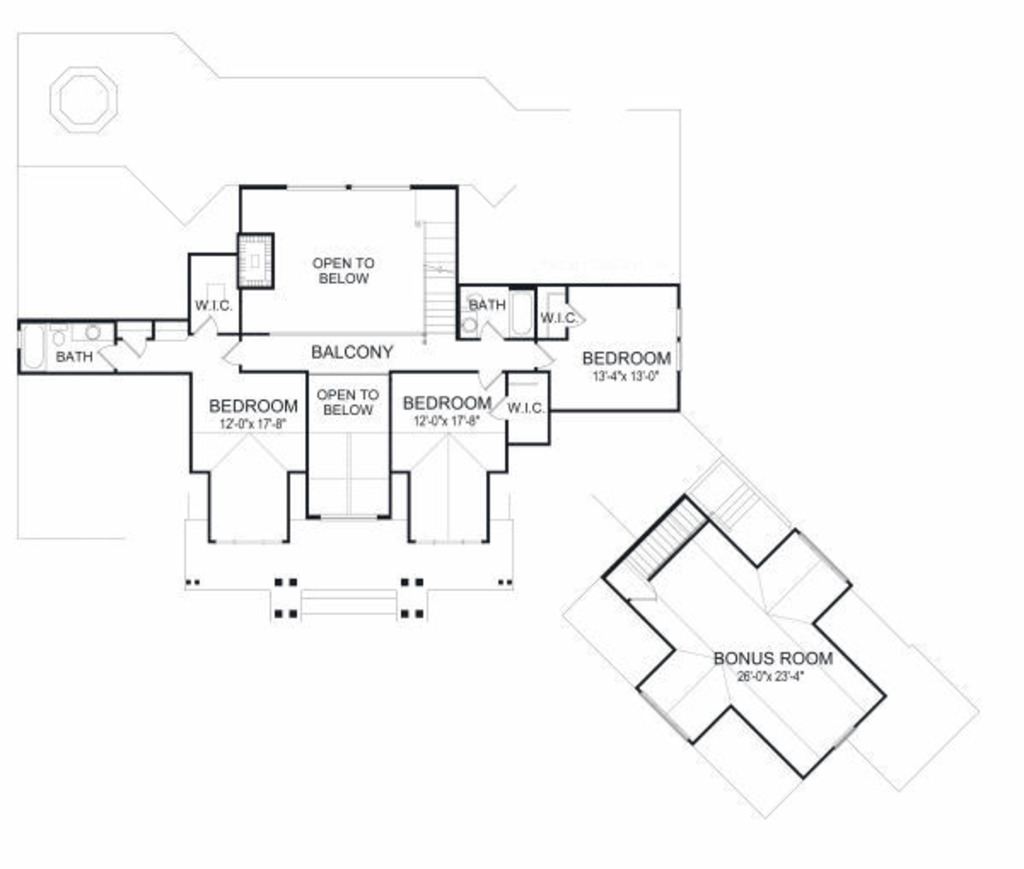door: (213, 329, 244, 374), (190, 308, 224, 344), (566, 305, 598, 341), (93, 339, 123, 375), (116, 333, 152, 359), (528, 340, 558, 370), (471, 370, 506, 394), (486, 389, 508, 421), (481, 321, 504, 343)
large_sink: (43, 320, 74, 348)
stairs: (601, 489, 700, 591), (409, 208, 465, 351)
tub: (505, 286, 539, 336), (15, 321, 42, 368)
window: (282, 182, 415, 194)
